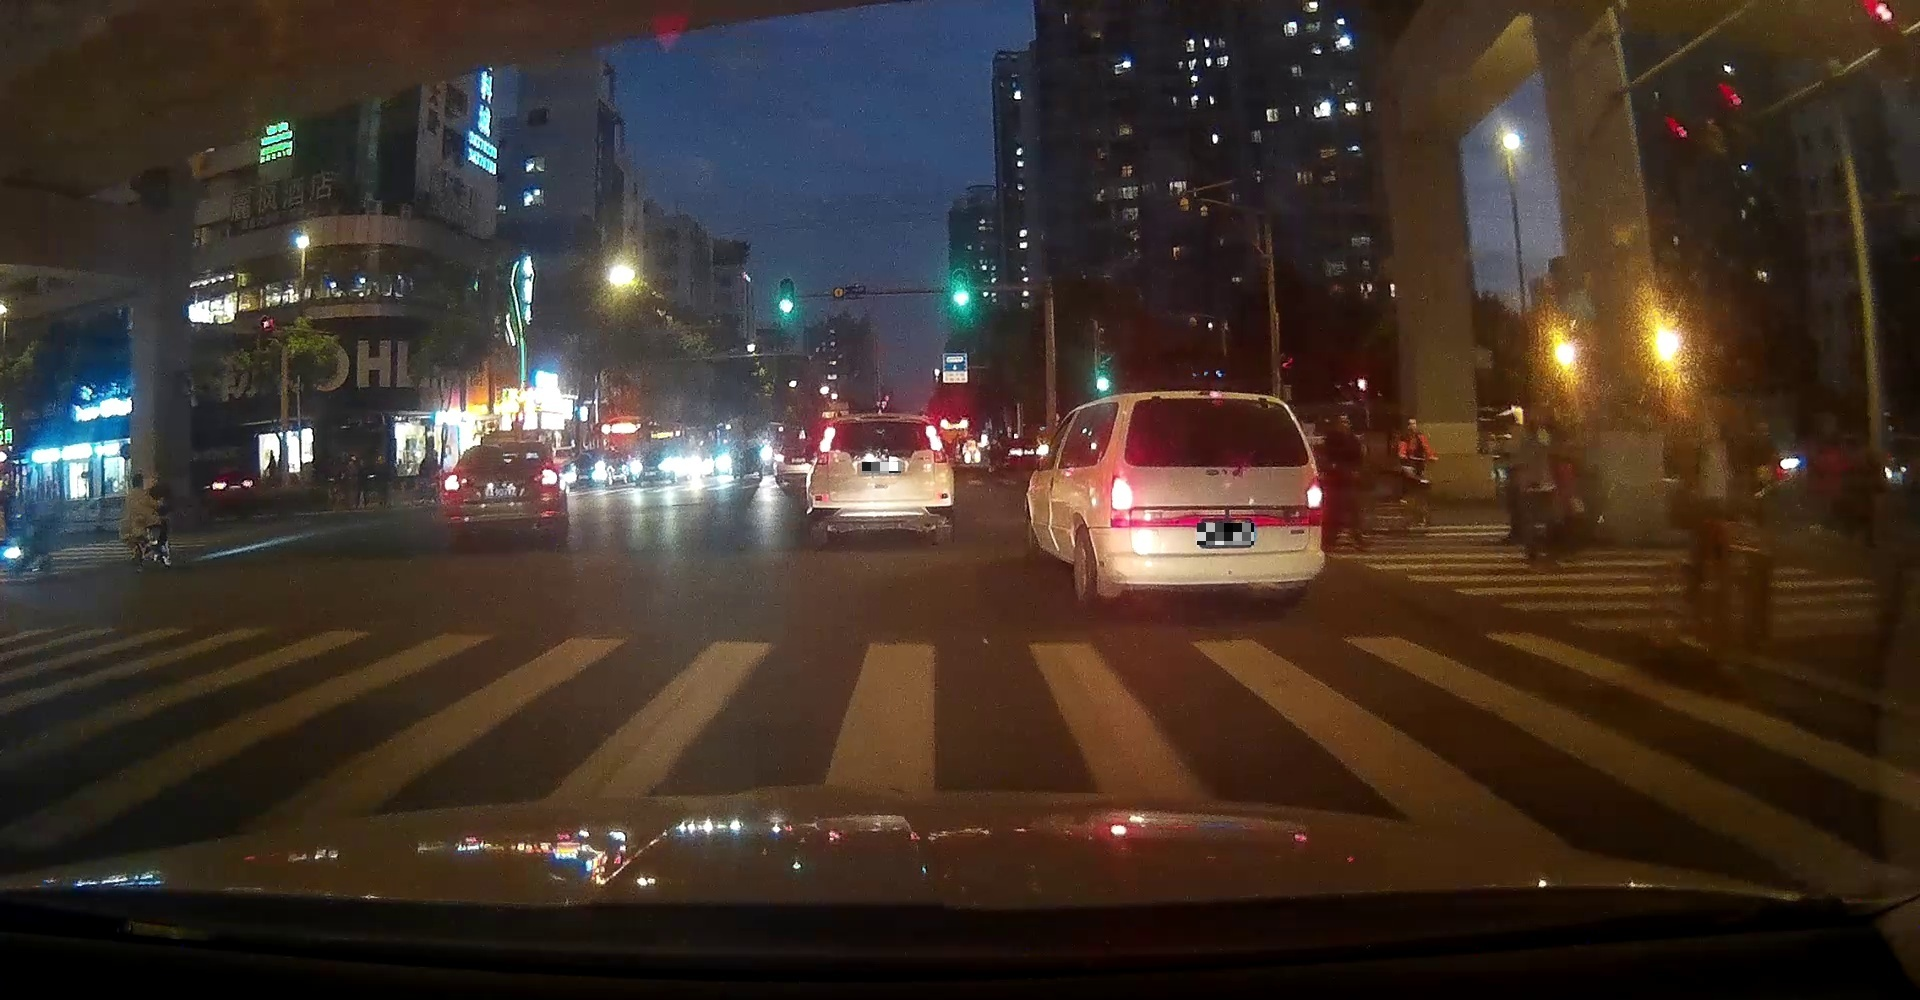L_light: (1110, 475, 1133, 511), (817, 424, 836, 464), (444, 475, 461, 492)
R_light: (924, 425, 947, 463), (1305, 476, 1322, 510), (541, 467, 557, 486)
T_light: (1199, 390, 1225, 401), (499, 445, 516, 453), (872, 416, 891, 423)
night-no: (1109, 390, 1323, 608), (808, 412, 951, 546), (444, 442, 559, 546)
plate_1: (862, 462, 902, 473)
plate_2: (1197, 523, 1255, 544)
